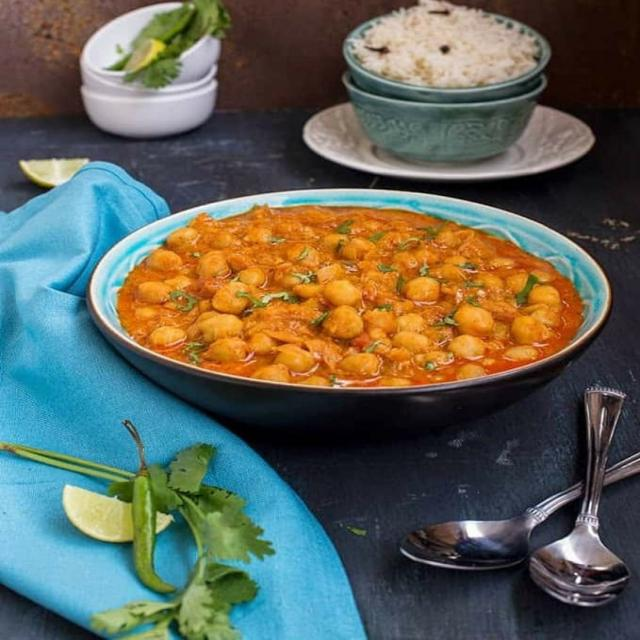Chole: (120, 206, 583, 386)
rice: (347, 0, 541, 88)
